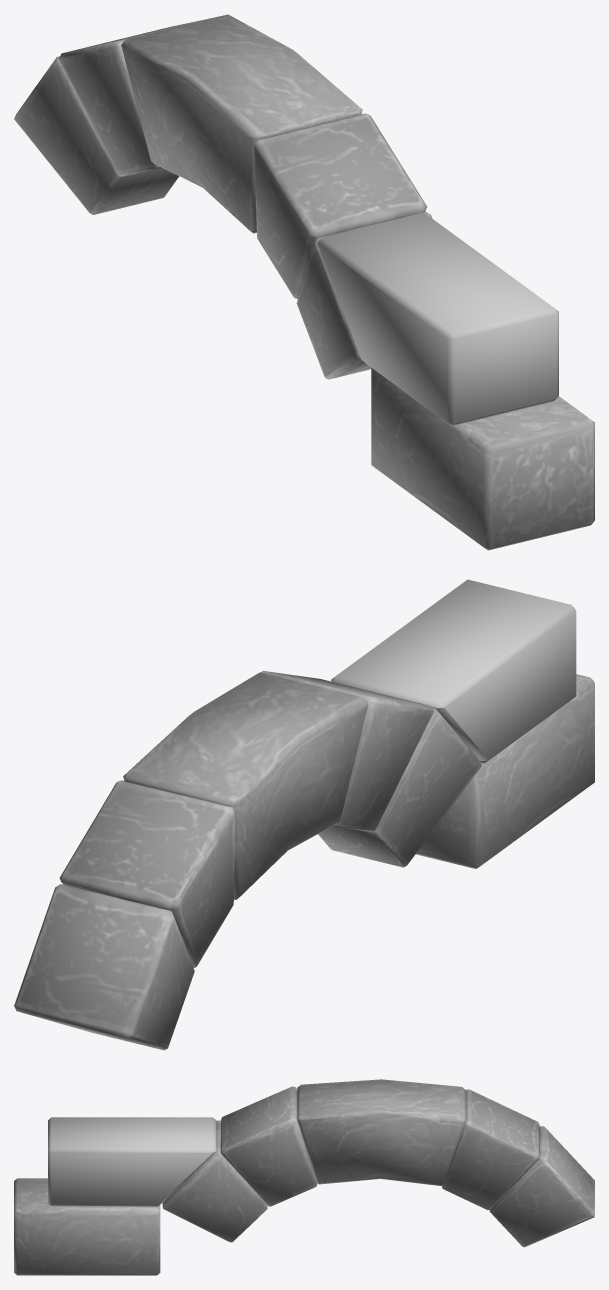
File: Camara_Top.fbx
3 views of the same model, one above another, from view 1: azimuth 30°, elevation 25°; view 2: azimuth 150°, elevation 25°; view 3: azimuth 270°, elevation 25° (orthographic). The views are drawn at different scales.
Parts seen in each view (by area): view 1: Brick#1.003, Camare, Brick#2.002, Brick#3.006, Brick#3.003, Brick#3.004, Brick#3.005; view 2: Camare, Brick#1.003, Brick#3.003, Brick#3.004, Brick#2.002, Brick#3.005, Brick#3.006; view 3: Camare, Brick#1.003, Brick#2.002, Brick#3.006, Brick#3.004, Brick#3.003, Brick#3.005.
Boxes of the visible parts, box(x1,y1,x2,y2) form: Brick#1.003: box(317, 213, 558, 426); Camare: box(121, 14, 362, 233); Brick#2.002: box(371, 367, 594, 550); Brick#3.006: box(254, 113, 426, 298); Brick#3.003: box(14, 56, 179, 214); Brick#3.004: box(59, 16, 220, 176); Brick#3.005: box(296, 211, 432, 379); Camare: box(123, 672, 368, 899); Brick#1.003: box(331, 579, 576, 763); Brick#3.003: box(14, 884, 194, 1050); Brick#3.004: box(59, 780, 234, 967); Brick#2.002: box(416, 674, 594, 868); Brick#3.005: box(318, 708, 481, 867); Brick#3.006: box(261, 670, 434, 832); Camare: box(297, 1079, 465, 1186); Brick#1.003: box(48, 1117, 216, 1206); Brick#2.002: box(14, 1178, 160, 1275); Brick#3.006: box(220, 1086, 317, 1206); Brick#3.004: box(442, 1089, 539, 1210); Brick#3.003: box(489, 1126, 594, 1247); Brick#3.005: box(162, 1120, 267, 1242).
Bounding box in the file's own units: 216 × 451 × 1449.
